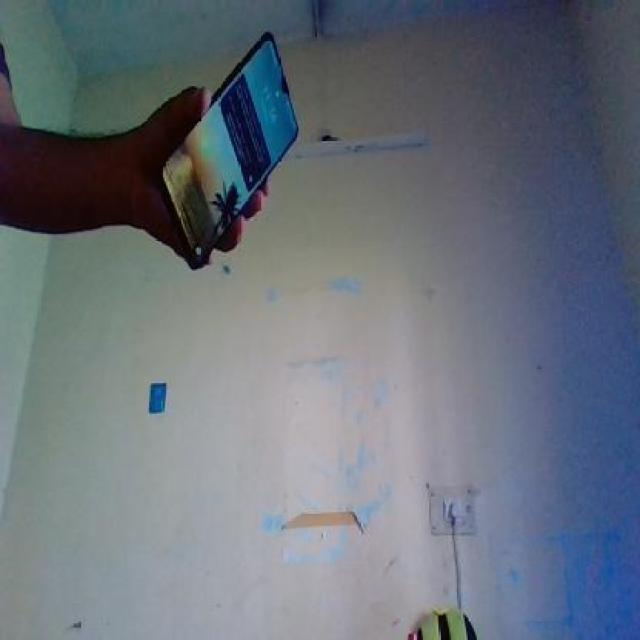Phone: (148, 29, 304, 264)
